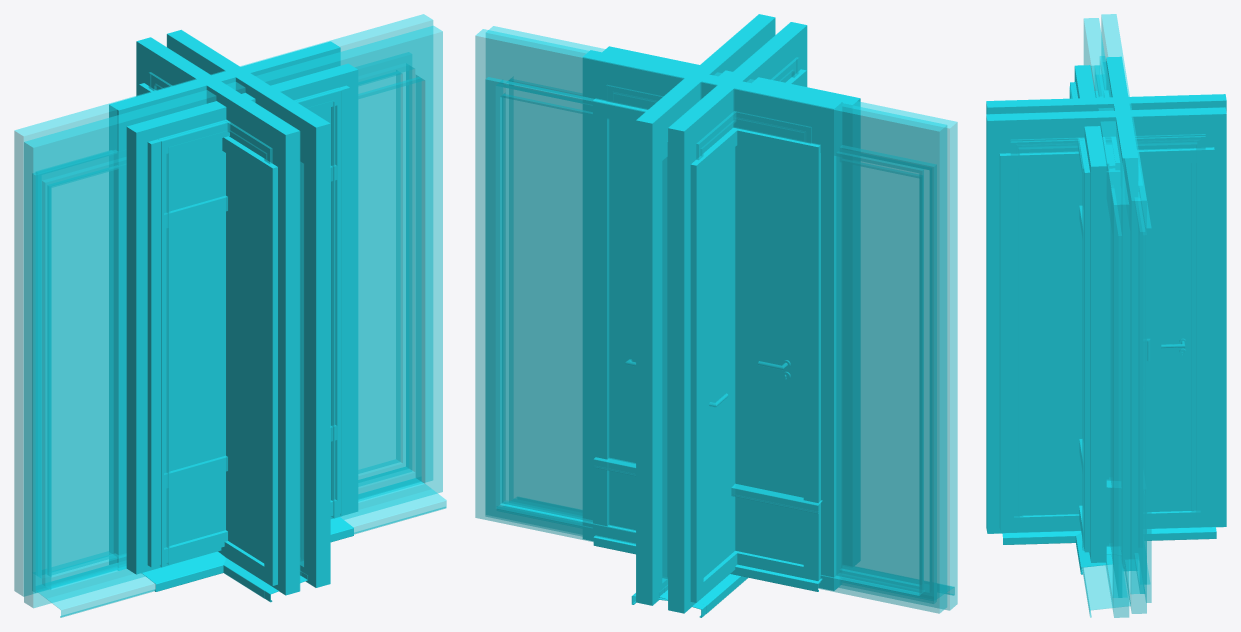
File: Level_03_openings.glb
3 views of the same model, side by side, from view 1: azimuth 30°, elevation 25°; view 2: azimuth 150°, elevation 25°; view 3: azimuth 270°, elevation 25° (orthographic). The views are drawn at different scales.
Visible parts, largest first — view 1: world; view 2: world; view 3: world.
Boxes of the visible parts, left/top/right/bottom form: world: left=14, top=14, right=446, bottom=617; world: left=475, top=14, right=957, bottom=617; world: left=986, top=14, right=1226, bottom=617.
Size of the model in its own units: 2.4 by 2.52 by 1.3.
